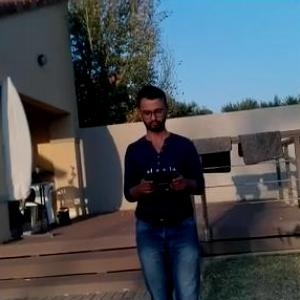follow: (118, 79, 212, 299)
